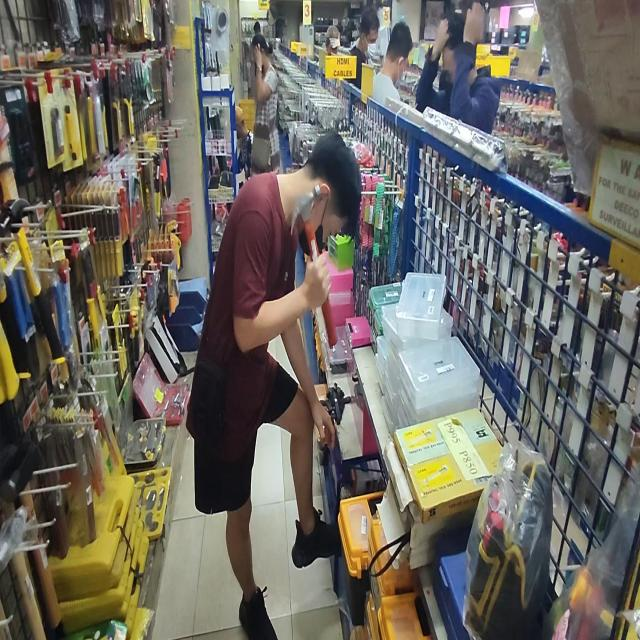hammer: (290, 186, 336, 342)
